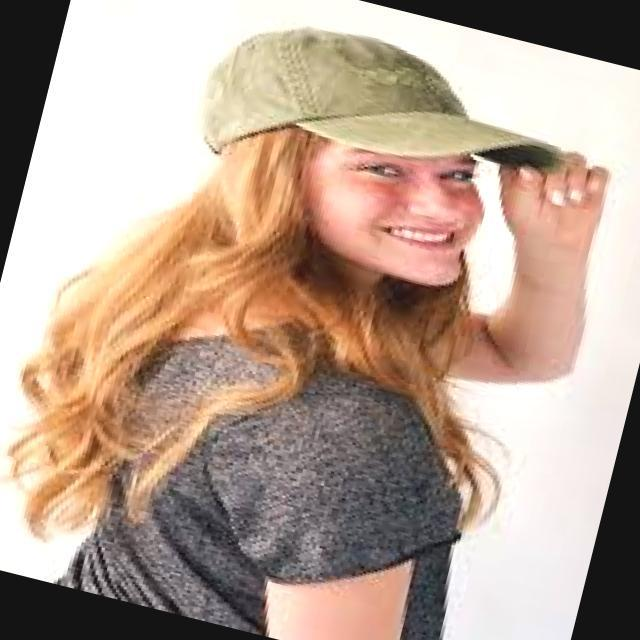cap: (130, 0, 640, 285)
